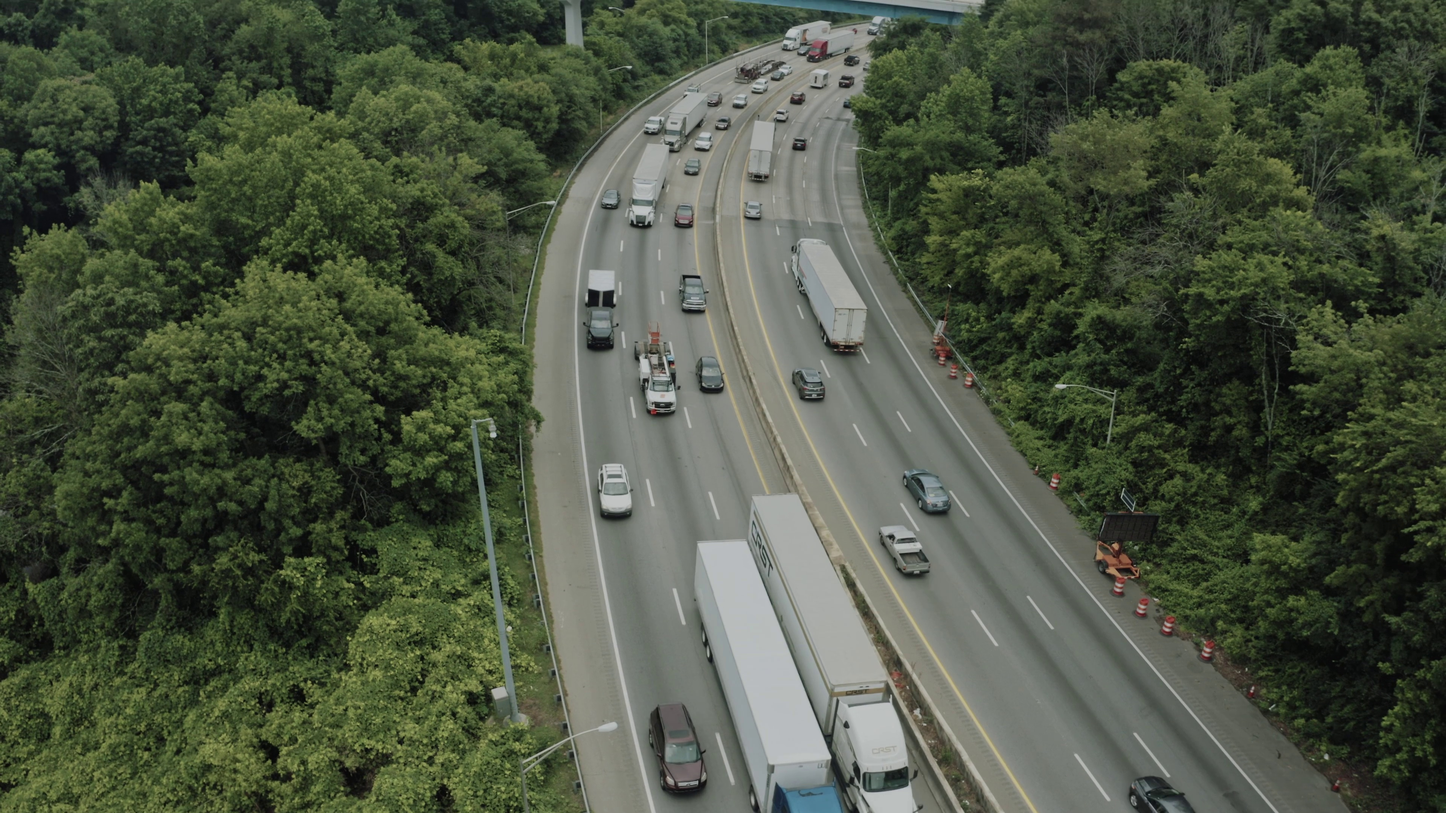Vehicle: (832, 692, 928, 813), (648, 702, 708, 795), (632, 335, 681, 415), (878, 524, 931, 576), (1129, 776, 1195, 813), (788, 238, 833, 291), (902, 469, 952, 514), (597, 463, 633, 519), (625, 177, 660, 227), (775, 778, 832, 808), (583, 306, 618, 350), (661, 115, 693, 155), (678, 275, 709, 312), (695, 356, 724, 393), (792, 367, 819, 400), (734, 62, 762, 84), (780, 29, 802, 52), (674, 203, 694, 228), (810, 39, 830, 62), (867, 16, 890, 35), (809, 69, 830, 89), (644, 116, 666, 135), (694, 131, 713, 151), (682, 80, 701, 99), (743, 201, 763, 219), (601, 193, 621, 209), (684, 158, 701, 175), (751, 78, 769, 94), (707, 92, 723, 107), (838, 74, 855, 88), (732, 94, 748, 108), (790, 91, 806, 105), (792, 137, 807, 151), (773, 109, 789, 122), (715, 117, 731, 130), (809, 69, 819, 89), (844, 55, 860, 66), (778, 65, 793, 76), (797, 45, 812, 56), (771, 71, 785, 81), (843, 98, 851, 108), (863, 61, 871, 71)
